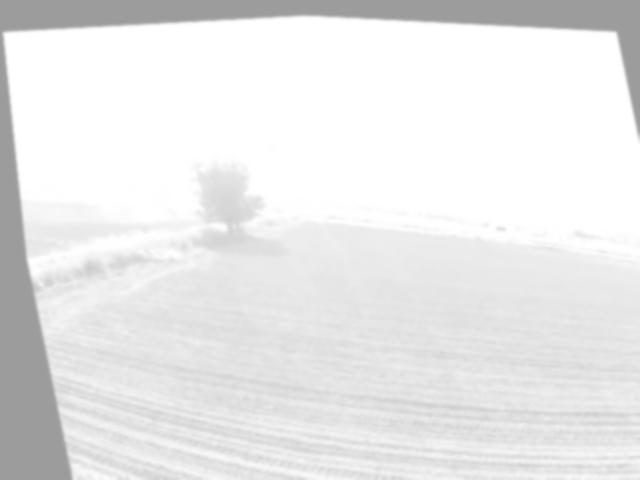hedef: (216, 111, 325, 182)
